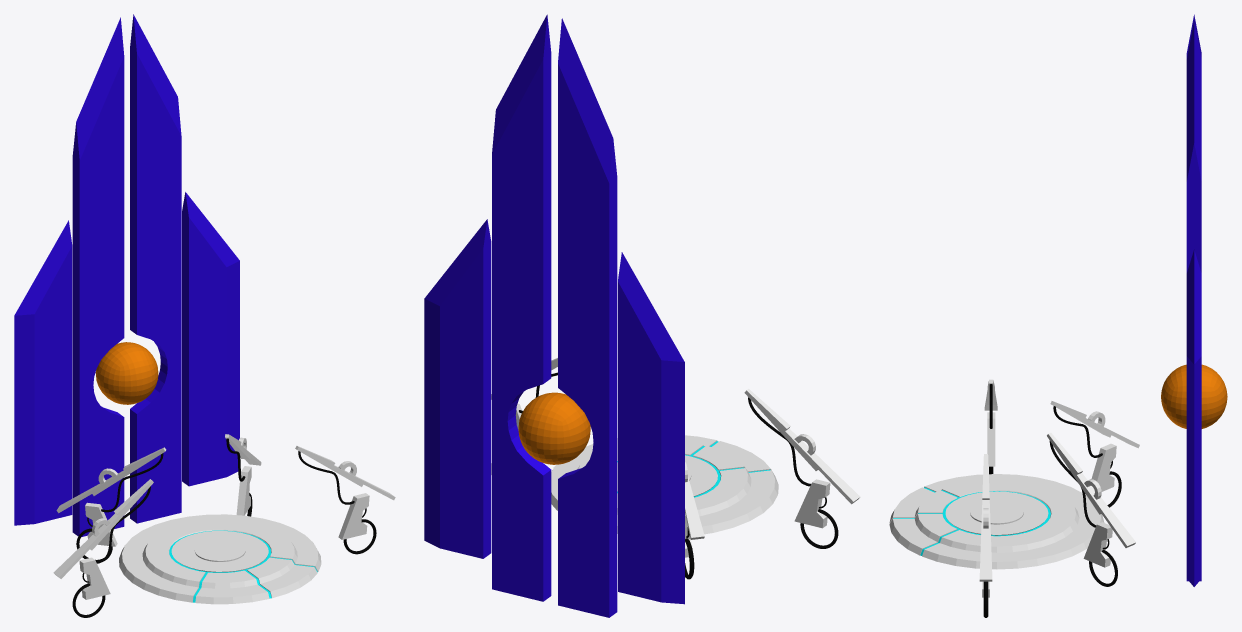
Rendered from spawn ally fix.fbx.
The picture shows the model from 3 angles, left to right: view 1: azimuth 30°, elevation 25°; view 2: azimuth 150°, elevation 25°; view 3: azimuth 270°, elevation 25°; orthographic projection. The views are drawn at different scales.
Visible parts, largest first — view 1: Cube.002; view 2: Cube.002; view 3: Cube.002.
Boxes of the visible parts, x1,y1,x2,y2 form: Cube.002: (14, 14, 395, 617); Cube.002: (424, 14, 860, 617); Cube.002: (889, 14, 1227, 617).
Bounding box in the file's own units: 380 × 551 × 314.
